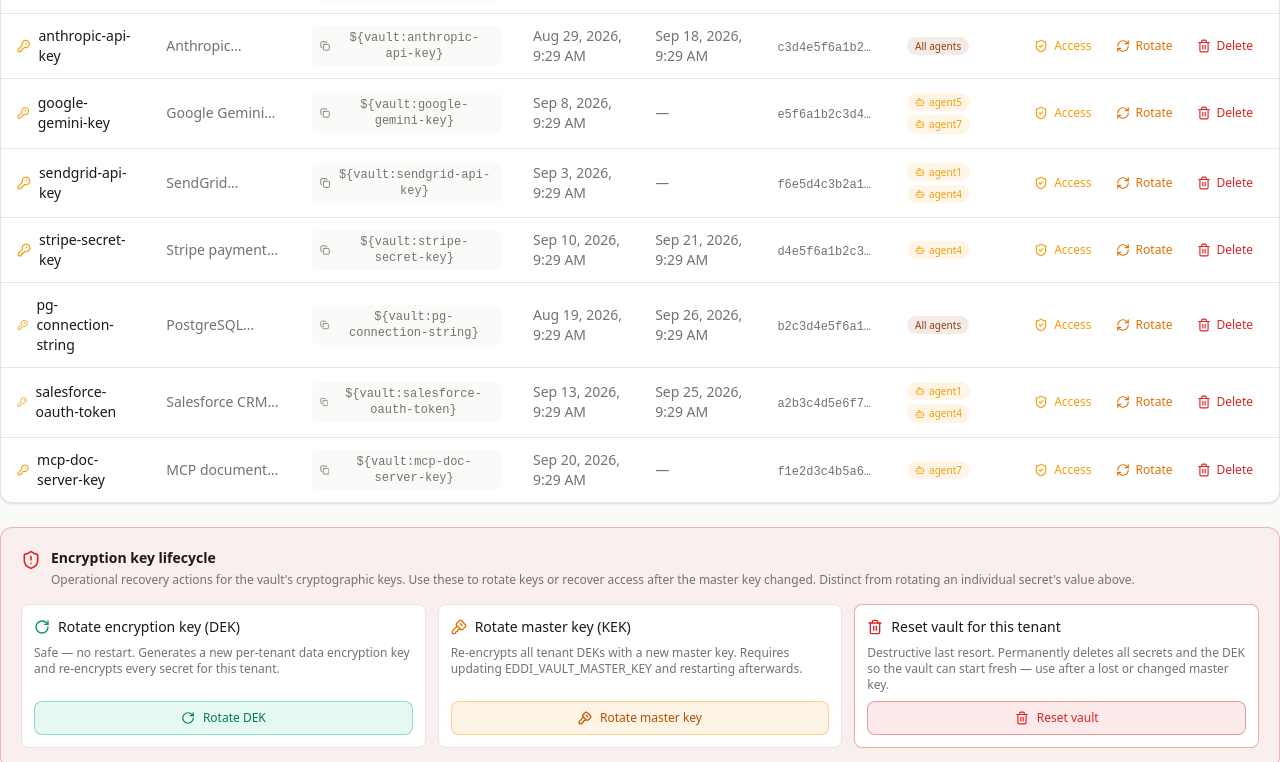
Scenario: SecretsPage — key lifecycle danger zone › KEK result banner can be dismissed with the close control
The width and height of the screenshot is (1280, 762).
(page scrolled)
Click the button with test id "open-rotate-kek": (640, 718) [451,701,829,735]
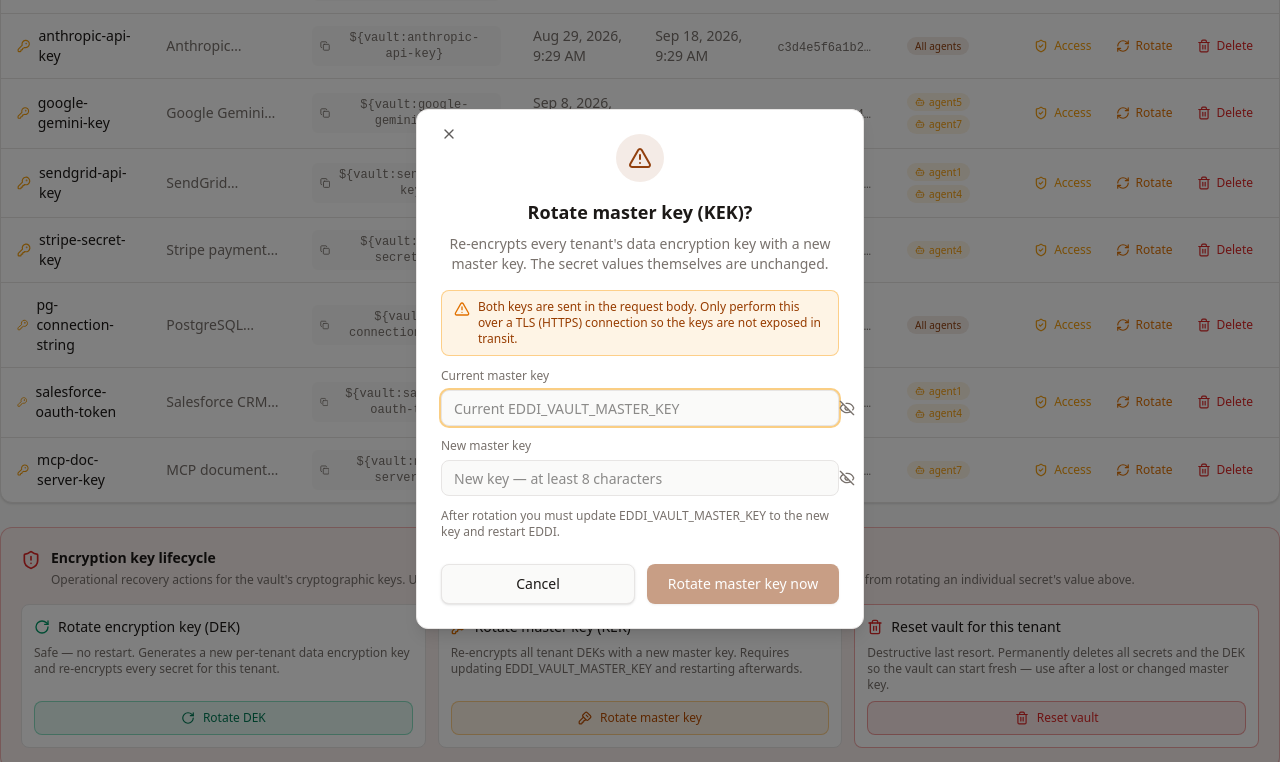
In the password field with test id "kek-old-key-input": (640, 408) [441,390,839,426], type "old-master-key"
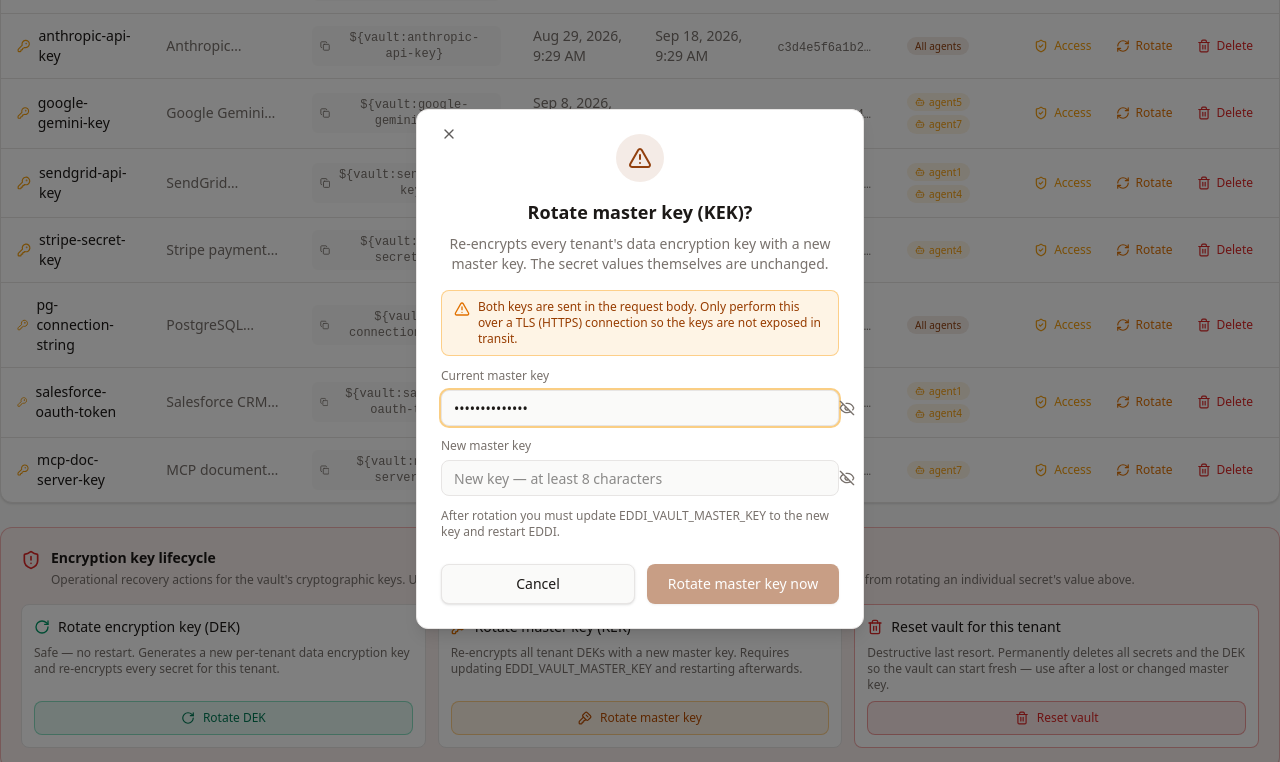
In the password field with test id "kek-new-key-input": (640, 478) [441,460,839,496], type "new-master-key-123"
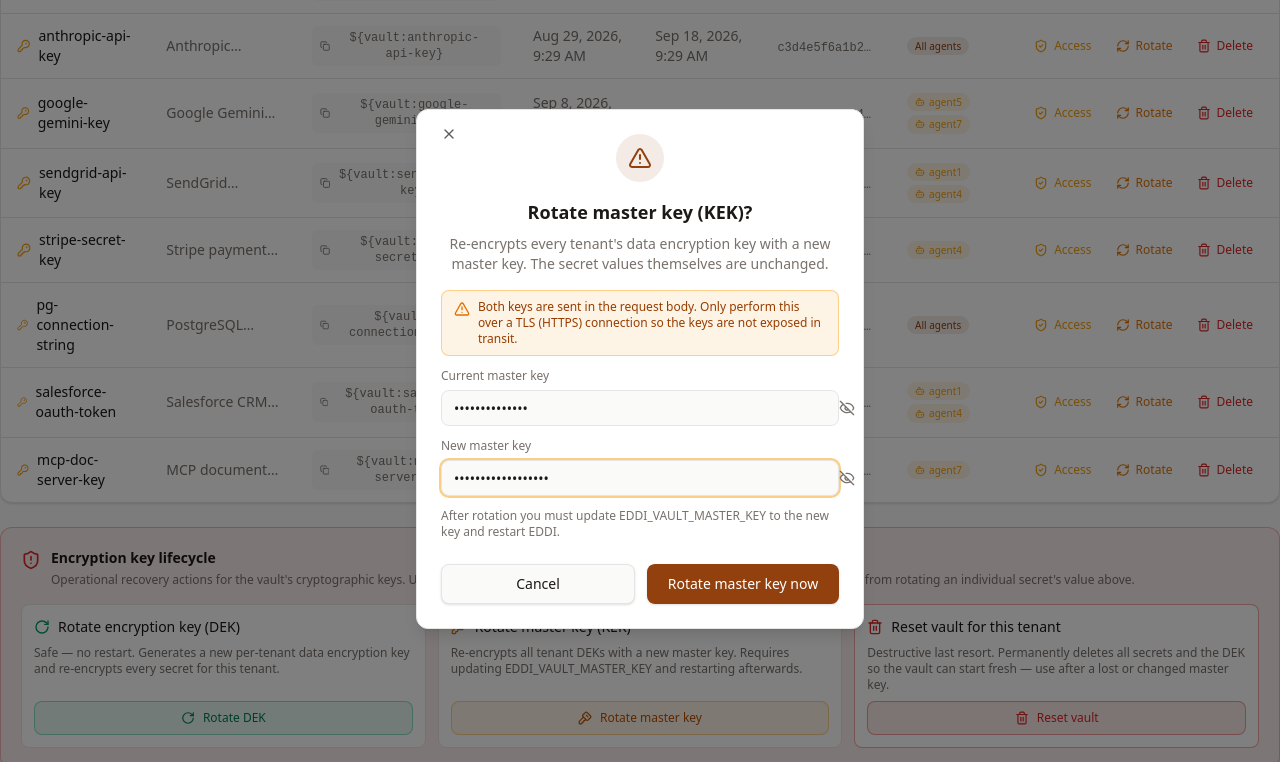
Click the button "Rotate master key now": (743, 584) [647,564,839,604]
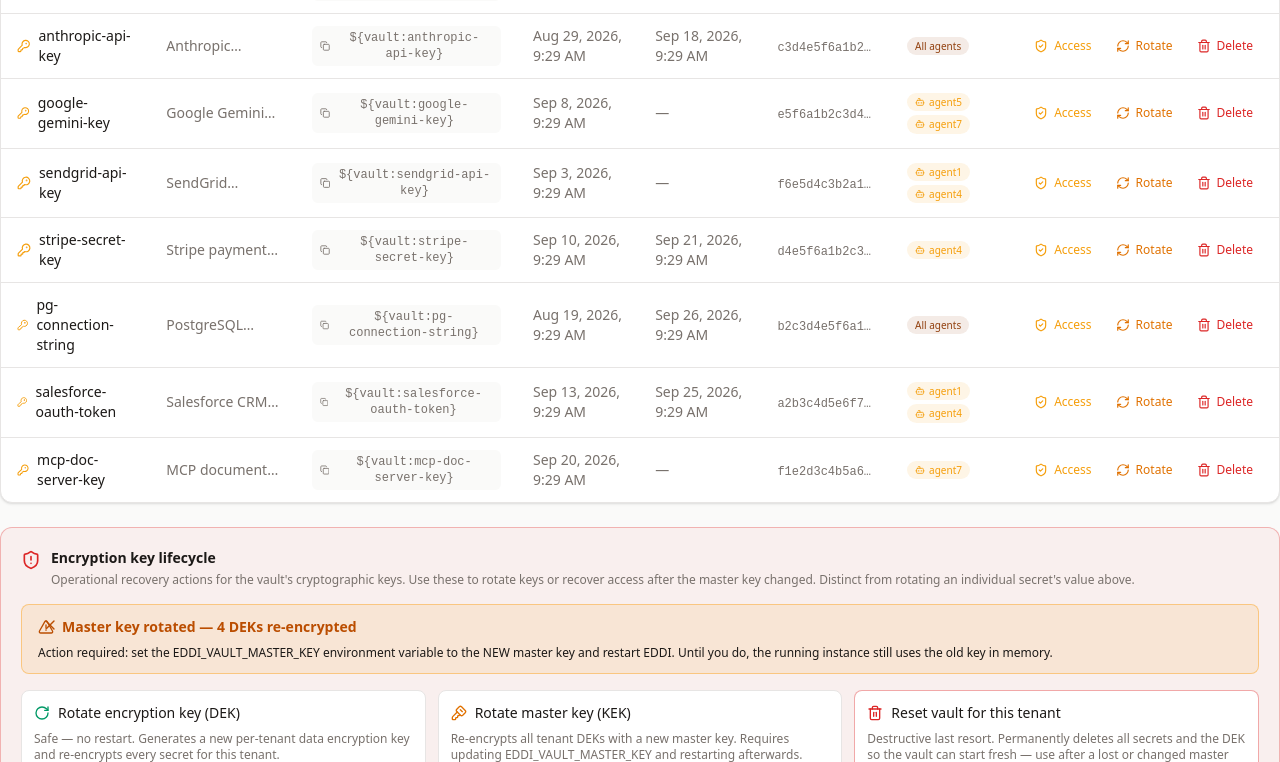
Now the message with test id "kek-rotation-result" is shown, box [21,604,1259,674]
Click the button with test id "dismiss-kek-result": (50, 625) [38,613,62,637]
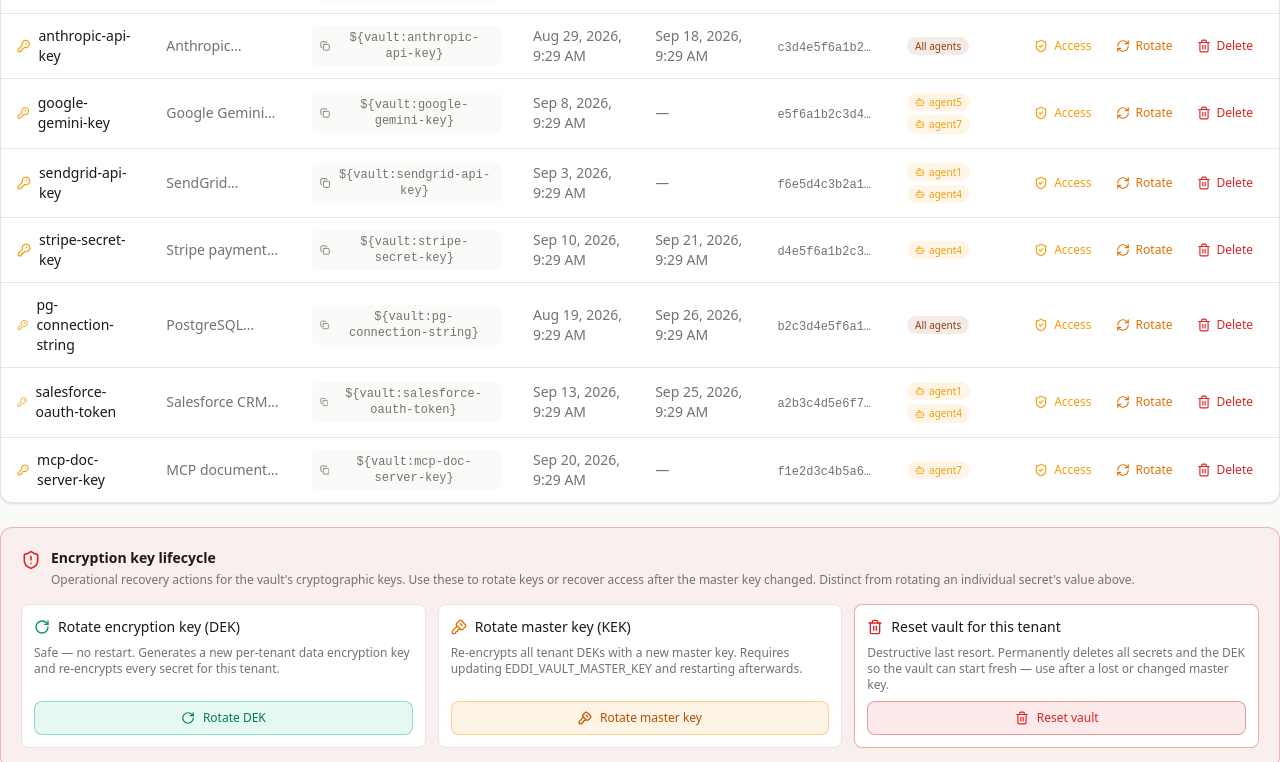
Now the message with test id "kek-rotation-result" is gone
